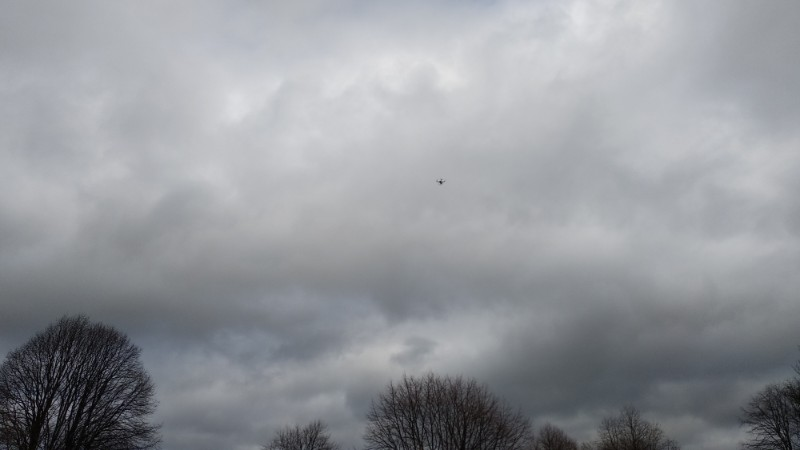drone: (435, 177, 445, 185)
